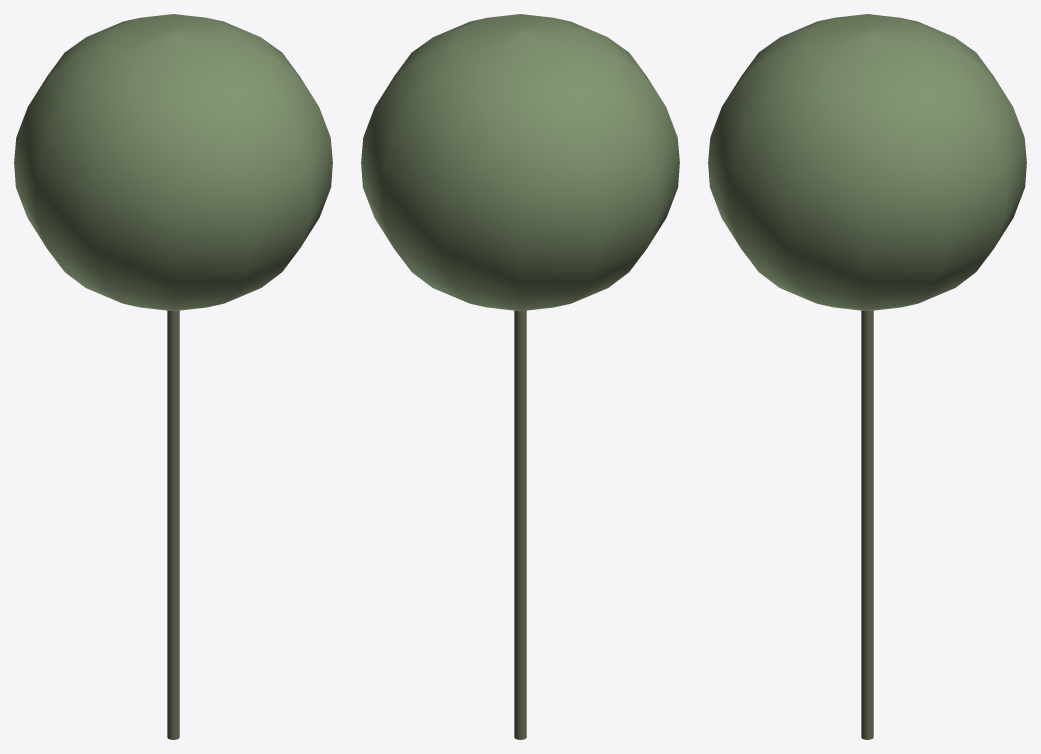
Rendered from Coconut_Palm_Analytical_0.obj.
The picture shows the model from 3 angles, left to right: view 1: azimuth 30°, elevation 25°; view 2: azimuth 150°, elevation 25°; view 3: azimuth 270°, elevation 25°; orthographic projection.
Parts seen in each view (by area): view 1: AnalyticalCrown, AnalyticalTrunk; view 2: AnalyticalCrown, AnalyticalTrunk; view 3: AnalyticalCrown, AnalyticalTrunk.
Part boxes in pixels (<box>): AnalyticalCrown: <box>14,14,332,311</box>; AnalyticalTrunk: <box>167,310,179,739</box>; AnalyticalCrown: <box>361,14,679,311</box>; AnalyticalTrunk: <box>514,310,526,739</box>; AnalyticalCrown: <box>708,14,1026,311</box>; AnalyticalTrunk: <box>861,310,873,739</box>.
Size of the model in its own units: 10.24 by 25 by 10.24.
